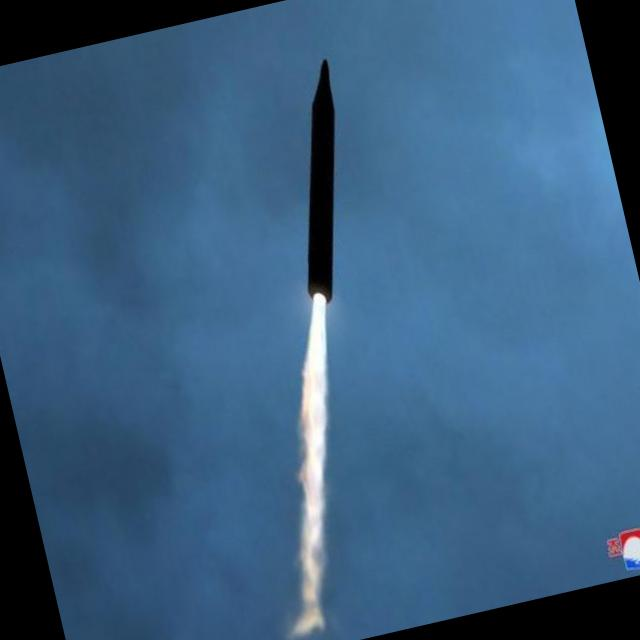rocket: (201, 49, 441, 524)
